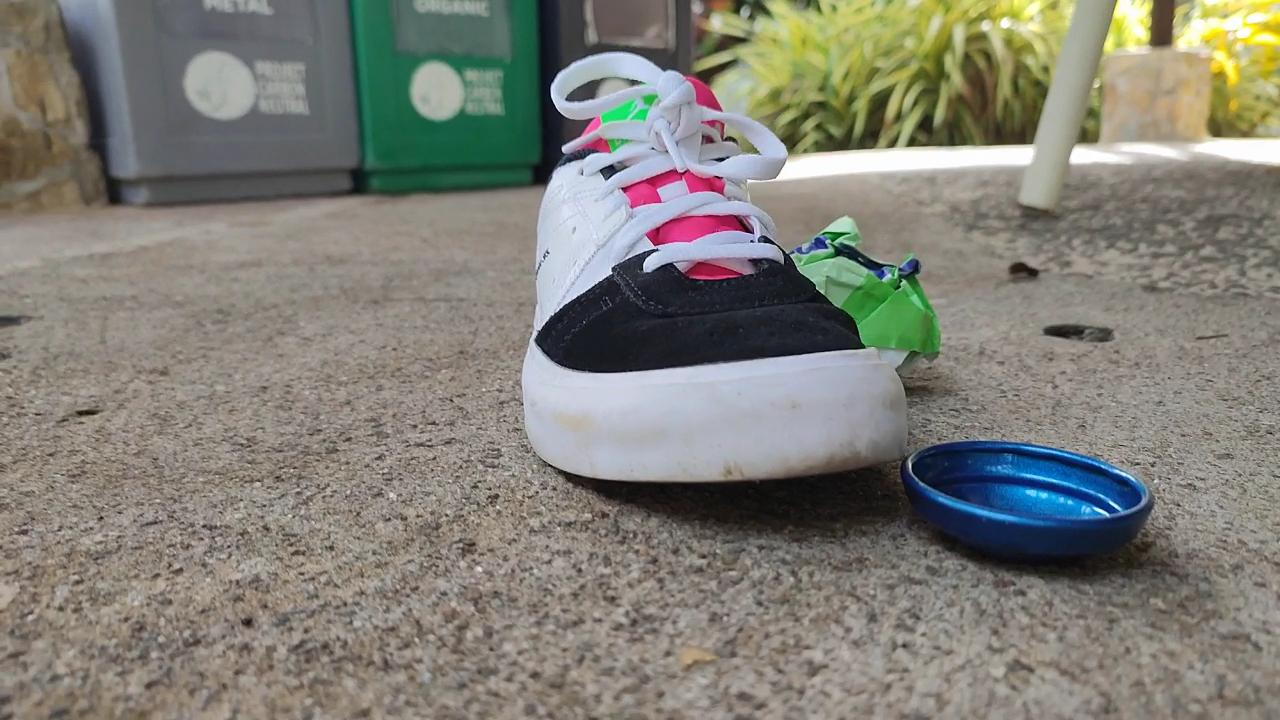Paper: (782, 207, 954, 376)
